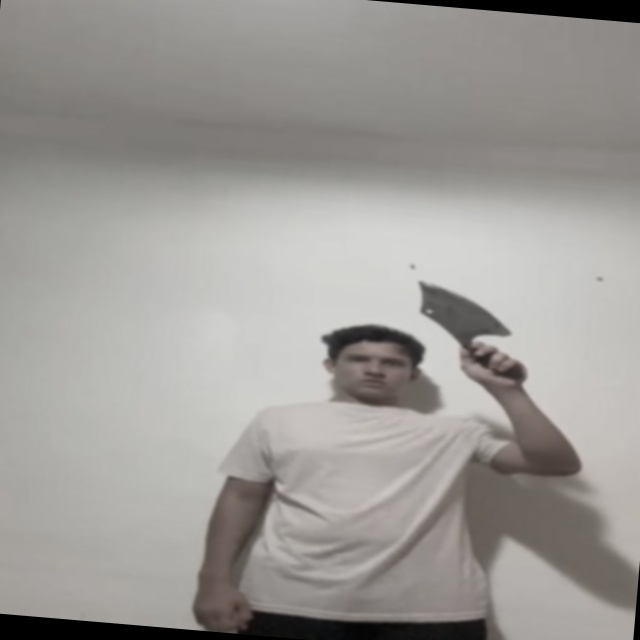Sharp-Object: (413, 279, 513, 339)
